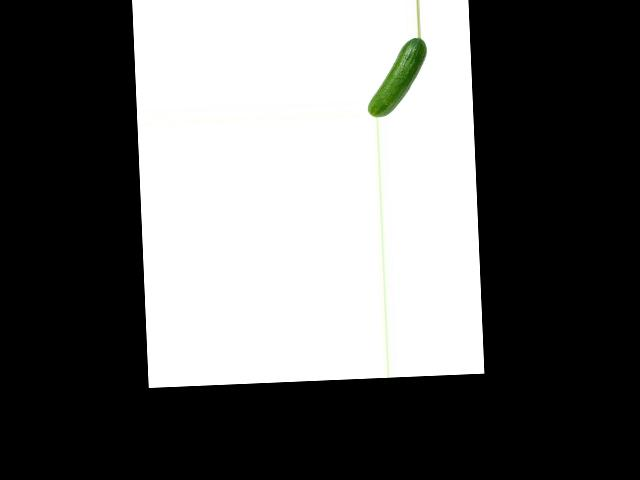cucumber: (365, 36, 430, 118)
